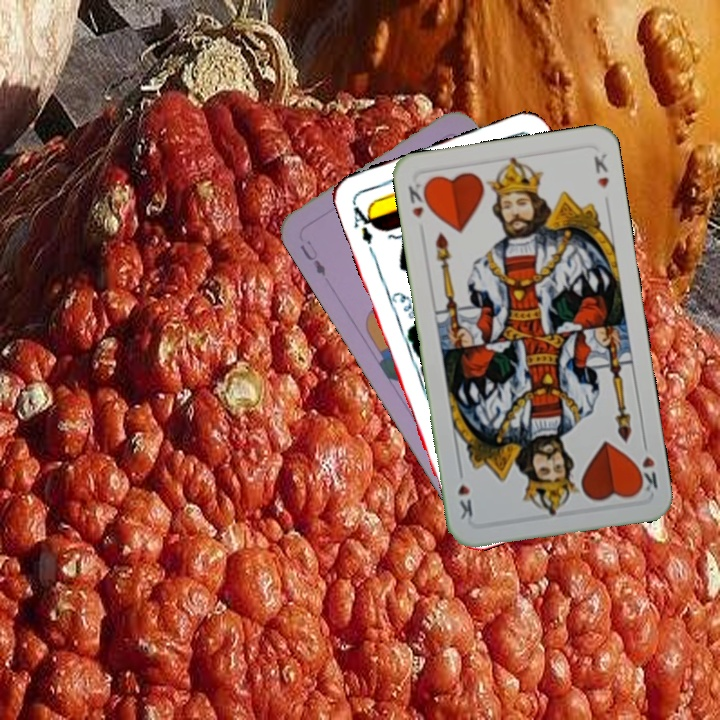EA: (348, 197, 379, 247)
EU: (296, 236, 329, 279)
HK: (632, 452, 661, 496), (403, 179, 432, 221)
